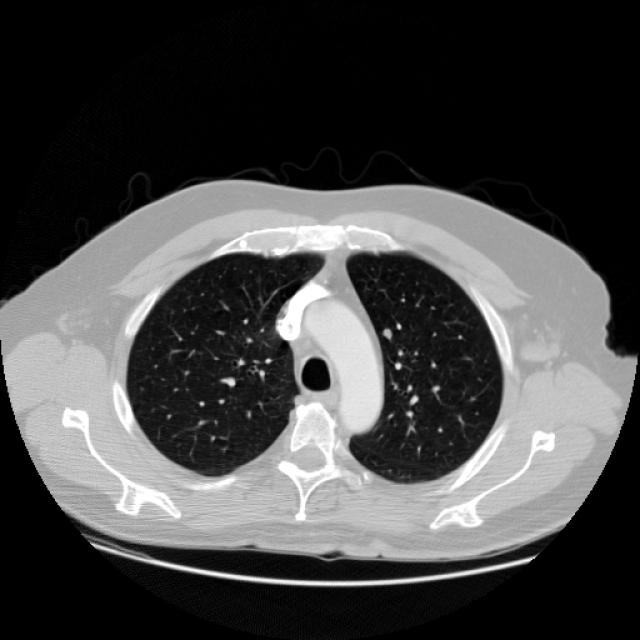nodule: (374, 320, 398, 345)
